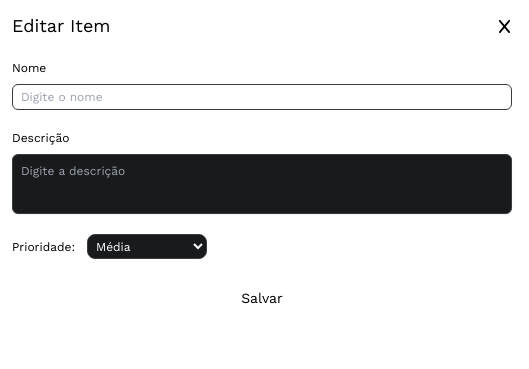
Test: ModalEditItem Component › should display validation errors when inputs are empty
Click the button "Salvar" at (262, 298), box [112,279,412,317]
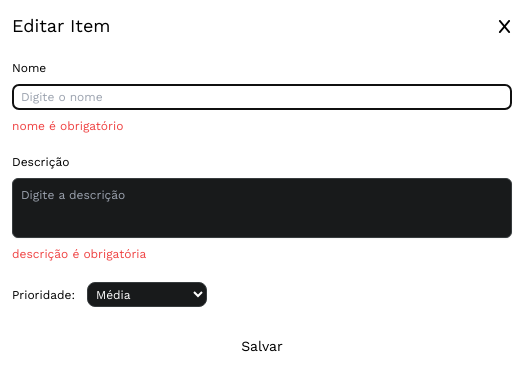
expect the text "nome é obrigatório" is shown: met, box [12,119,123,133]
expect the text "descrição é obrigatória" is shown: met, box [12,247,146,261]
